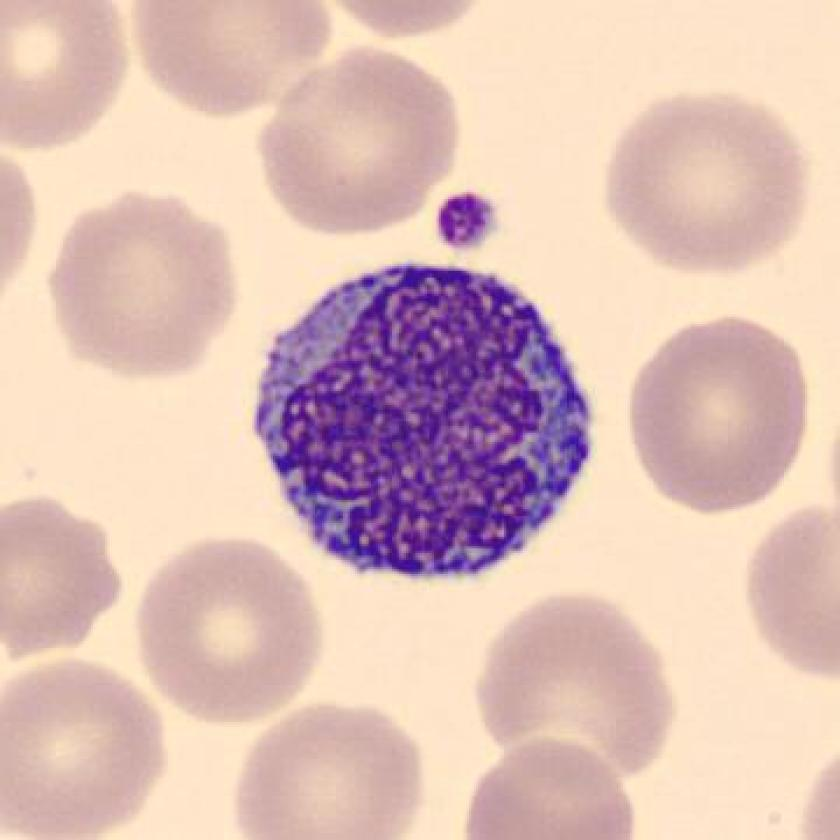monocyte: (242, 253, 613, 598)
